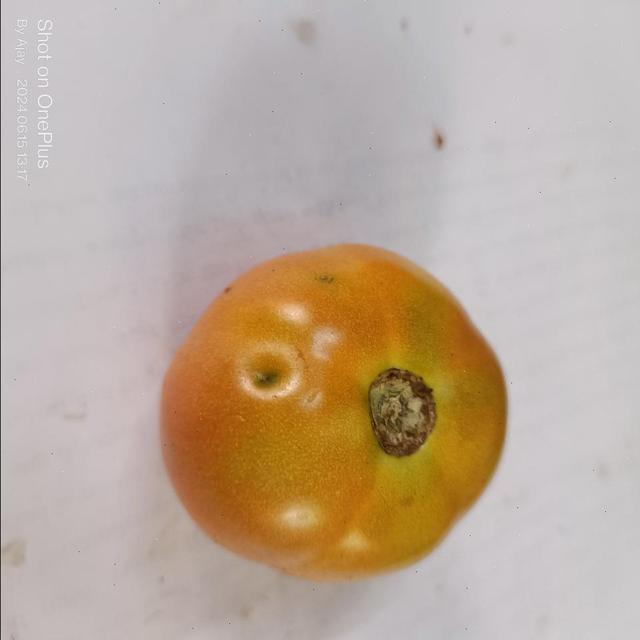Bacterial Spot Fruit: (166, 241, 188, 265)
